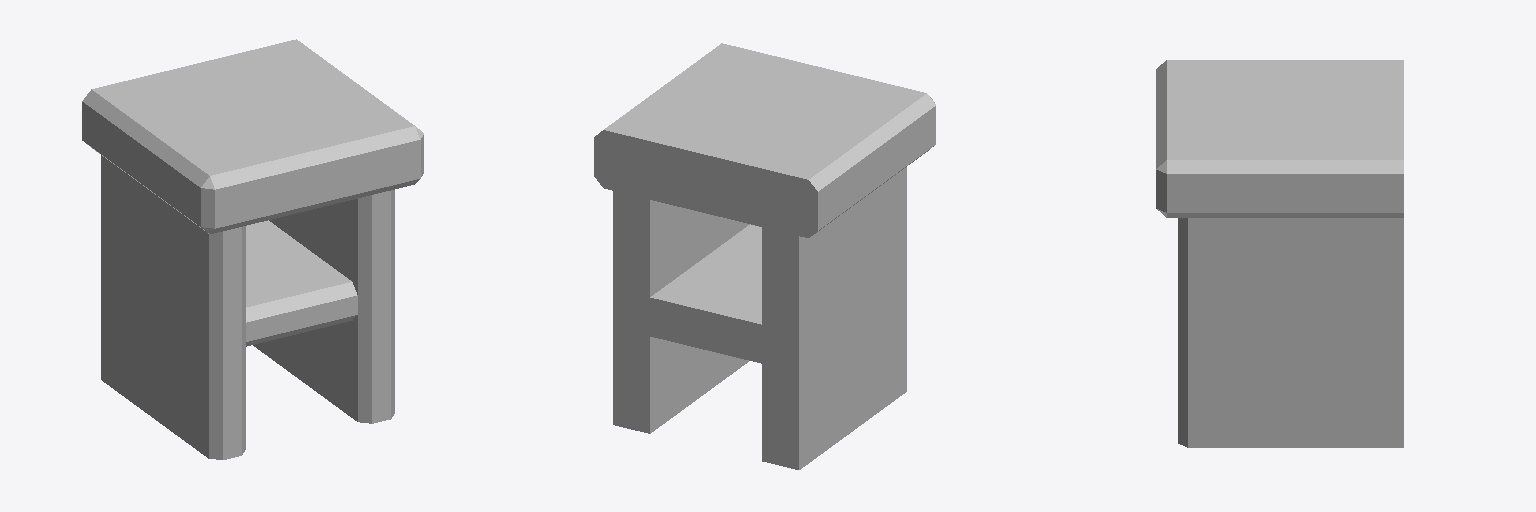
The model's file is countertop_closet_B_small.obj.
The picture shows the model from 3 angles: view 1: azimuth 30°, elevation 25°; view 2: azimuth 150°, elevation 25°; view 3: azimuth 270°, elevation 25°; orthographic projection.
Parts seen in each view (by area): view 1: countertop_closet_B_small; view 2: countertop_closet_B_small; view 3: countertop_closet_B_small.
Part boxes in pixels (x1,y1,x2,y2): countertop_closet_B_small: (82, 39, 423, 459); countertop_closet_B_small: (594, 43, 935, 469); countertop_closet_B_small: (1156, 60, 1403, 447).
Bounding box in the file's own units: 1.2 × 1.5 × 1.15.